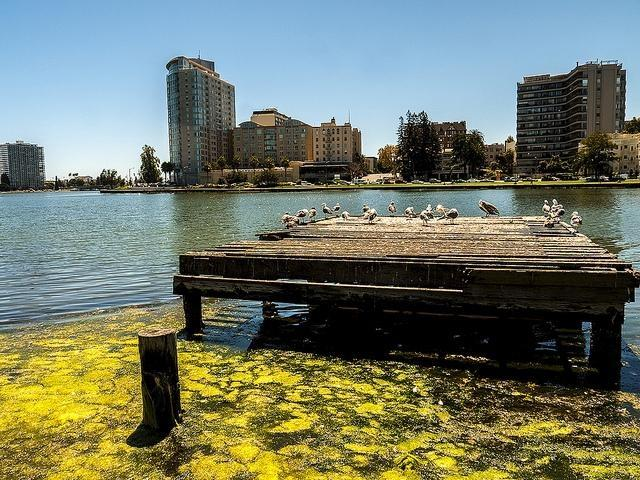car: (560, 174, 576, 181), (541, 175, 556, 182), (521, 176, 538, 182), (504, 176, 518, 182), (394, 179, 408, 184), (429, 178, 441, 183), (479, 178, 494, 182), (613, 176, 626, 180), (412, 180, 424, 184), (468, 178, 480, 182), (579, 176, 591, 180)
